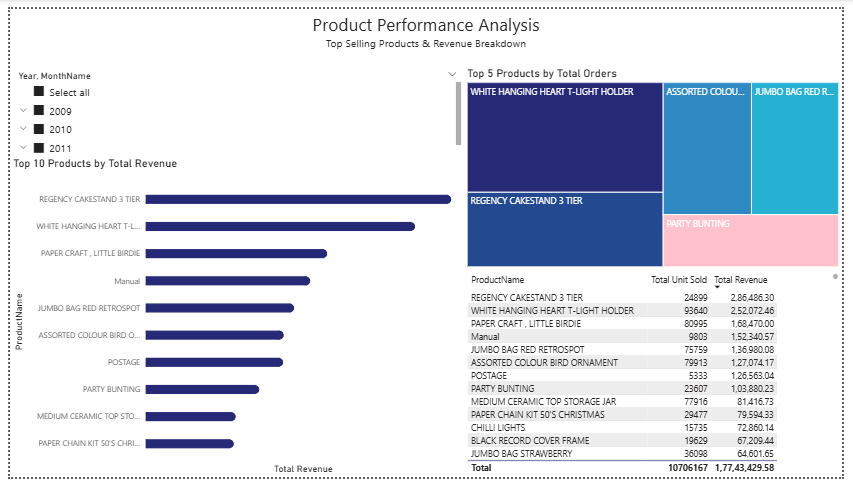

This screenshot's page, from the dashboard's own definition file:
{"tool":"powerbi","page":{"name":"Product Performance","canvas":[1280,720],"ordinal":1},"visuals":[{"type":"barChart","title":"Top 10 Products by Total Revenue","fields":{"Category":["ecommerce_db orders.ProductName"],"Y":["ecommerce_db orders.TotalRevenue"]},"box":[0,227.1,699.1,492.9],"z":0},{"type":"treemap","title":"Top 5 Products by Total Orders","fields":{"Group":["ecommerce_db orders.ProductName"],"Values":["ecommerce_db orders.TotalOrders"]},"box":[699.1,89.6,581.1,312.2],"z":1000},{"type":"tableEx","fields":{"Values":["ecommerce_db orders.ProductName","ecommerce_db orders.TotalUnitSold","ecommerce_db orders.TotalRevenue"]},"box":[699.1,401.8,581.1,318.2],"z":2000},{"type":"slicer","fields":{"Values":["ecommerce_db orders.Year","ecommerce_db orders.MonthName"]},"box":[0,89.6,699.1,137.4],"z":3000},{"type":"textbox","box":[0,0,1280.2,89.6],"z":4000}]}

Visuals, with their boxes in screenshot pixels (x1, y1, x2, y2), scaled from the page's 1280x720 canvas onto the 853x486 screenshot:
"Top 10 Products by Total Revenue" barChart: [left=0, top=153, right=466, bottom=485]
"Top 5 Products by Total Orders" treemap: [left=466, top=60, right=852, bottom=271]
tableEx - ecommerce_db orders.ProductName x ecommerce_db orders.TotalUnitSold: [left=466, top=271, right=852, bottom=485]
slicer - ecommerce_db orders.Year x ecommerce_db orders.MonthName: [left=0, top=60, right=466, bottom=153]
textbox: [left=0, top=0, right=852, bottom=60]
